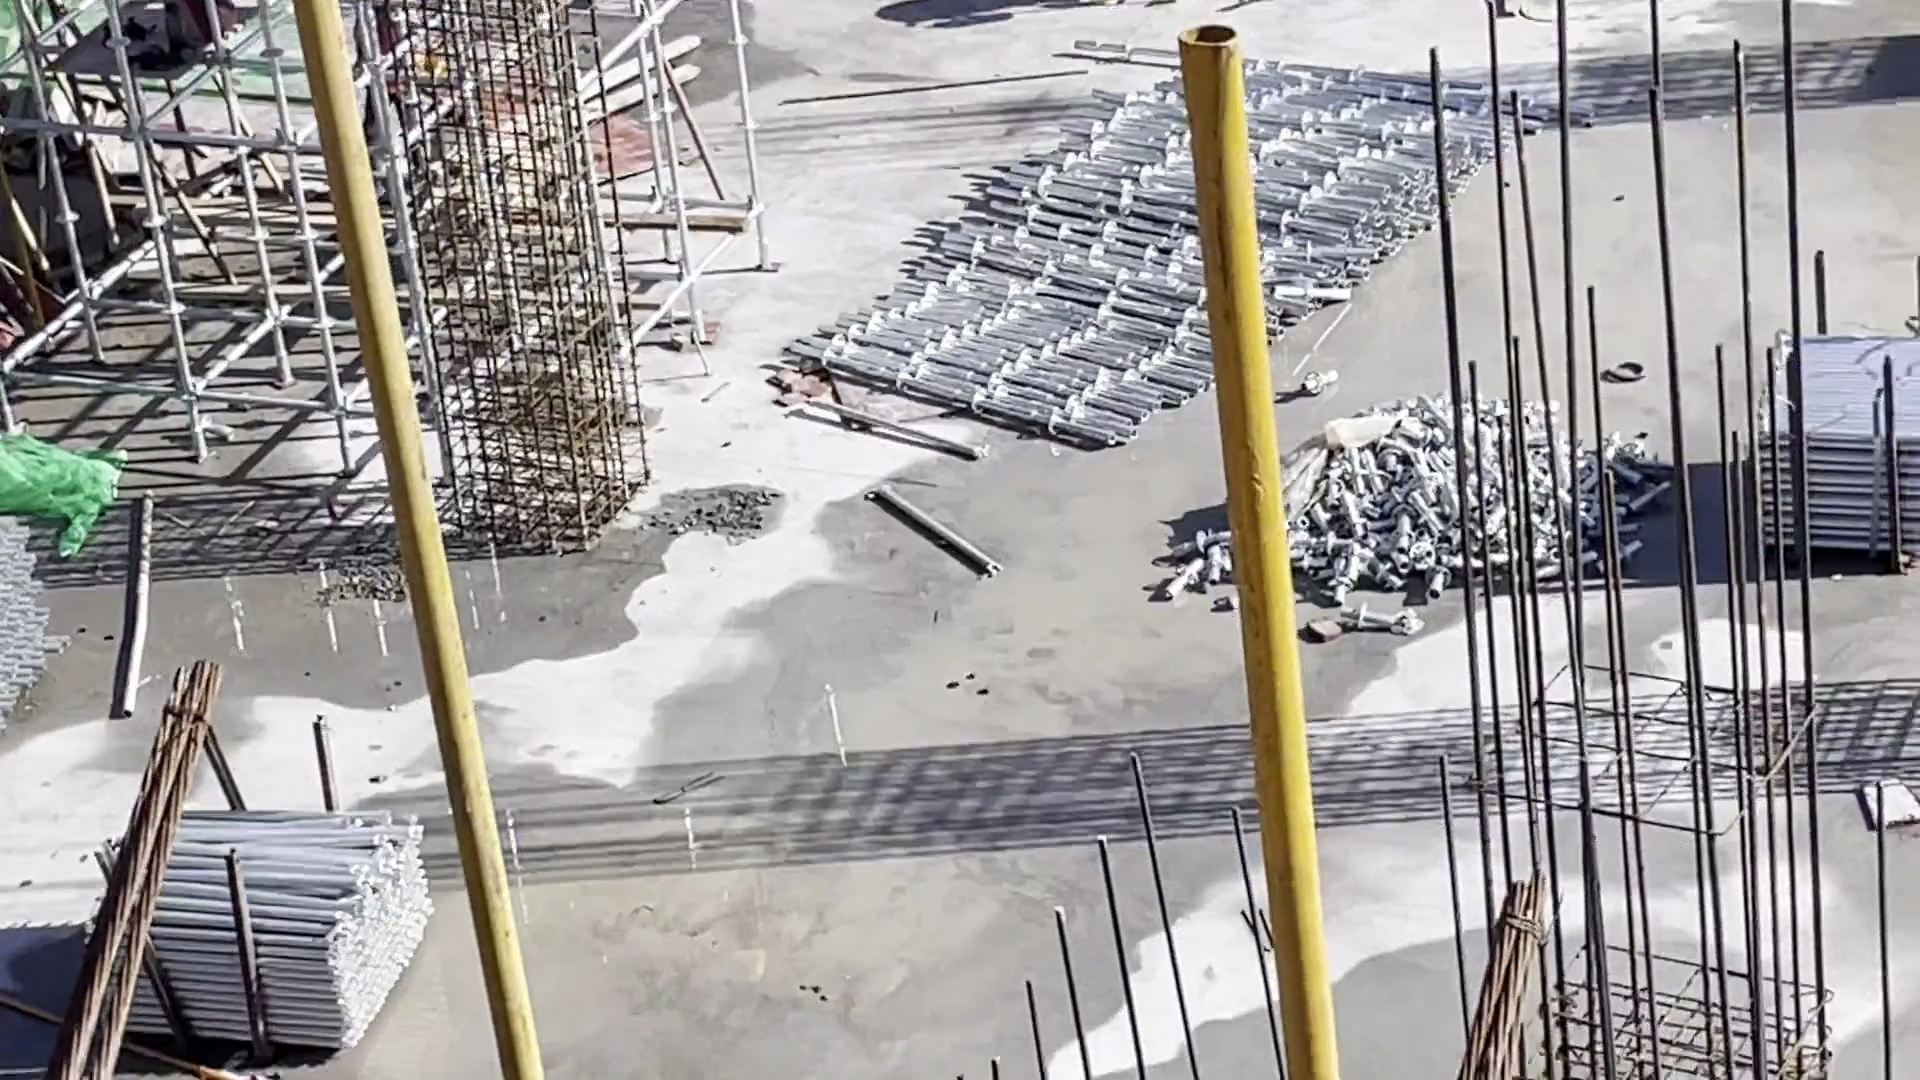scaffold: (785, 61, 1592, 448), (88, 807, 433, 1050), (1754, 327, 1920, 571)
